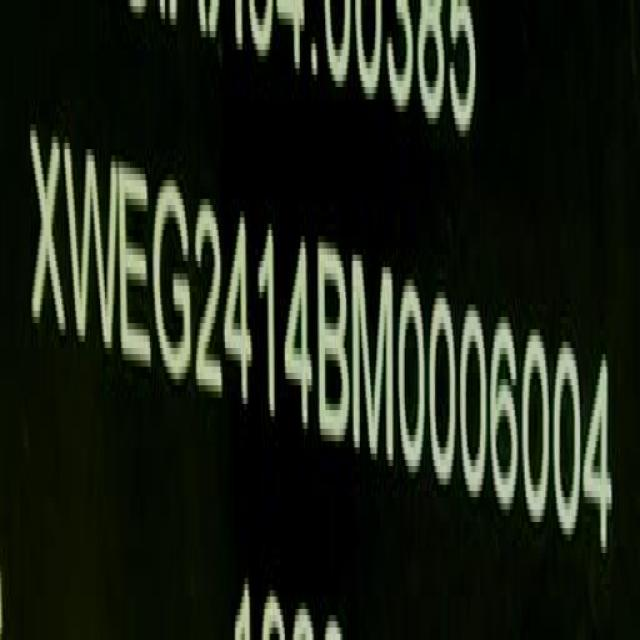0: (398, 271, 428, 484), (430, 287, 459, 498), (522, 328, 552, 531), (461, 300, 490, 505), (555, 338, 584, 543)
1: (258, 214, 278, 427)
2: (194, 197, 226, 410)
4: (284, 226, 316, 444), (586, 346, 618, 561), (226, 212, 254, 420)
6: (490, 311, 523, 517)
B: (316, 240, 352, 458)
E: (118, 148, 154, 380)
G: (153, 169, 193, 391)
M: (353, 252, 395, 470)
W: (68, 130, 118, 368)
X: (29, 121, 68, 355)
